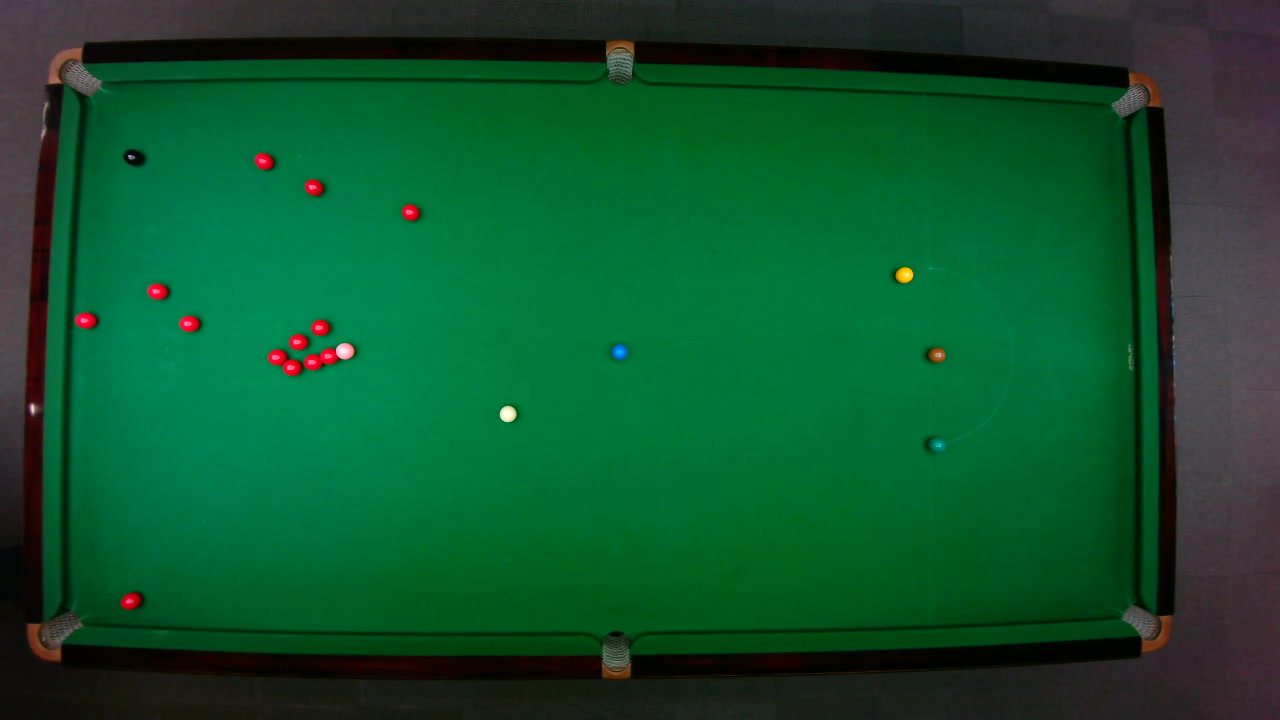bag: (25, 608, 84, 661), (45, 46, 102, 96), (1119, 603, 1171, 652), (1108, 71, 1161, 118), (600, 629, 630, 680), (605, 38, 633, 85)
black: (122, 148, 143, 166)
blue: (609, 342, 628, 360)
brown: (926, 346, 945, 362)
green: (926, 435, 946, 452)
pink: (334, 341, 355, 360)
red: (118, 590, 142, 610), (145, 281, 169, 300), (73, 310, 97, 328), (265, 347, 287, 366), (177, 314, 200, 332), (309, 317, 330, 336), (253, 151, 274, 170), (303, 177, 324, 196), (280, 358, 302, 376), (400, 202, 420, 221), (287, 332, 308, 350), (302, 352, 323, 370), (318, 346, 337, 365)
white: (497, 404, 517, 422)
yellow: (893, 265, 914, 283)
zone: (926, 266, 1013, 445)
